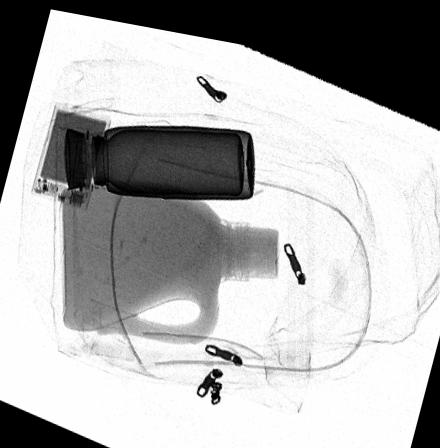Powerbank: (29, 97, 110, 209)
